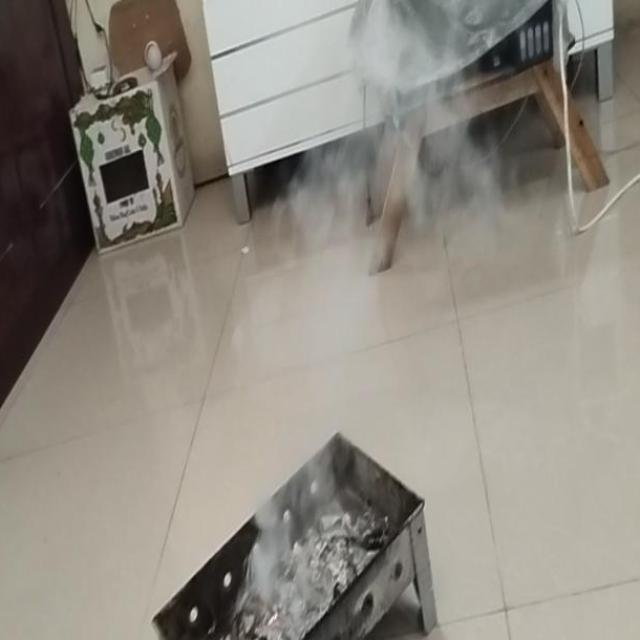fire: (270, 134, 370, 366), (253, 381, 336, 598)
